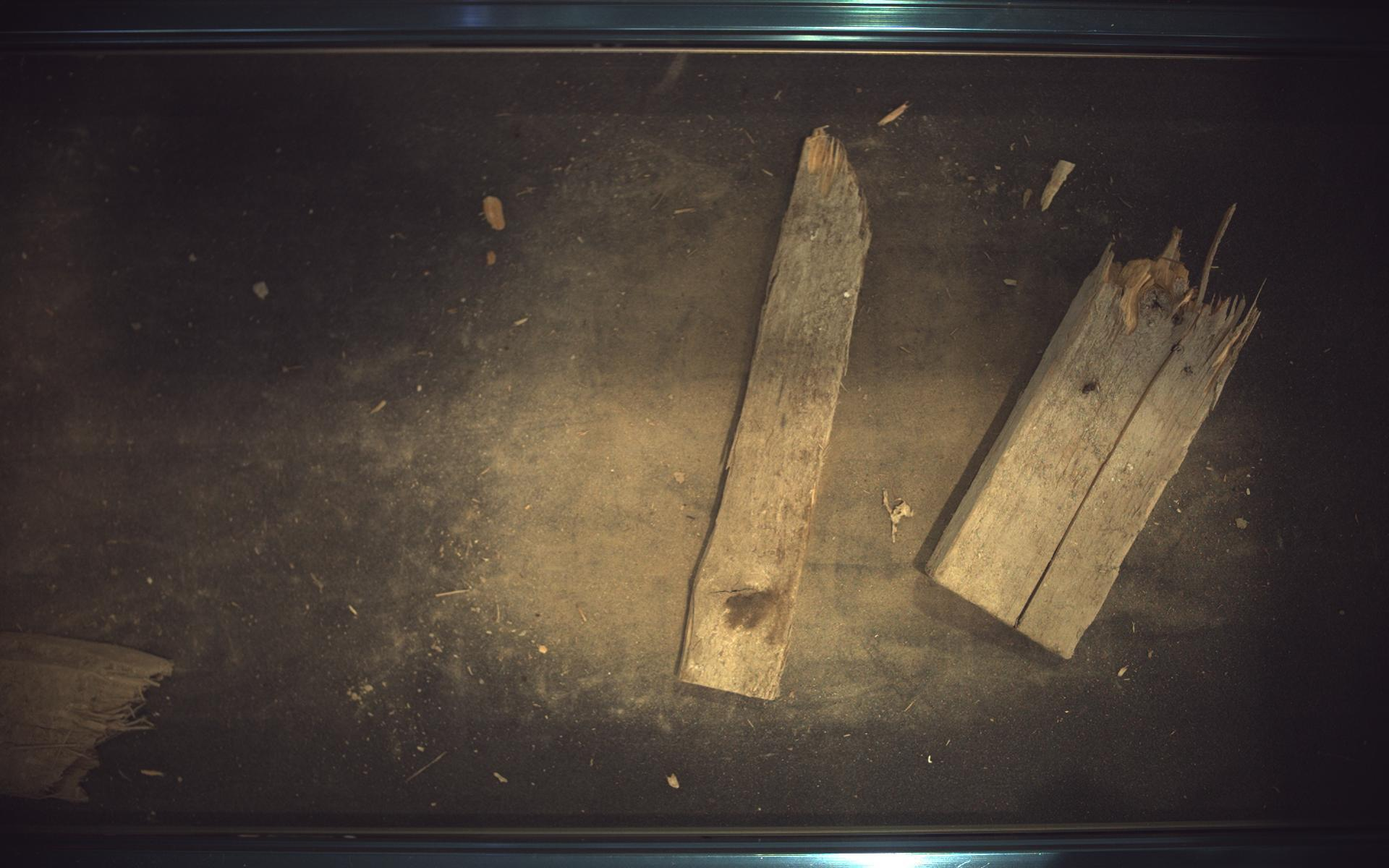wood: (930, 205, 1263, 659), (679, 127, 872, 701)
